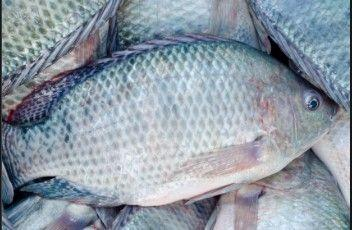Tilapia: (4, 36, 339, 209)
